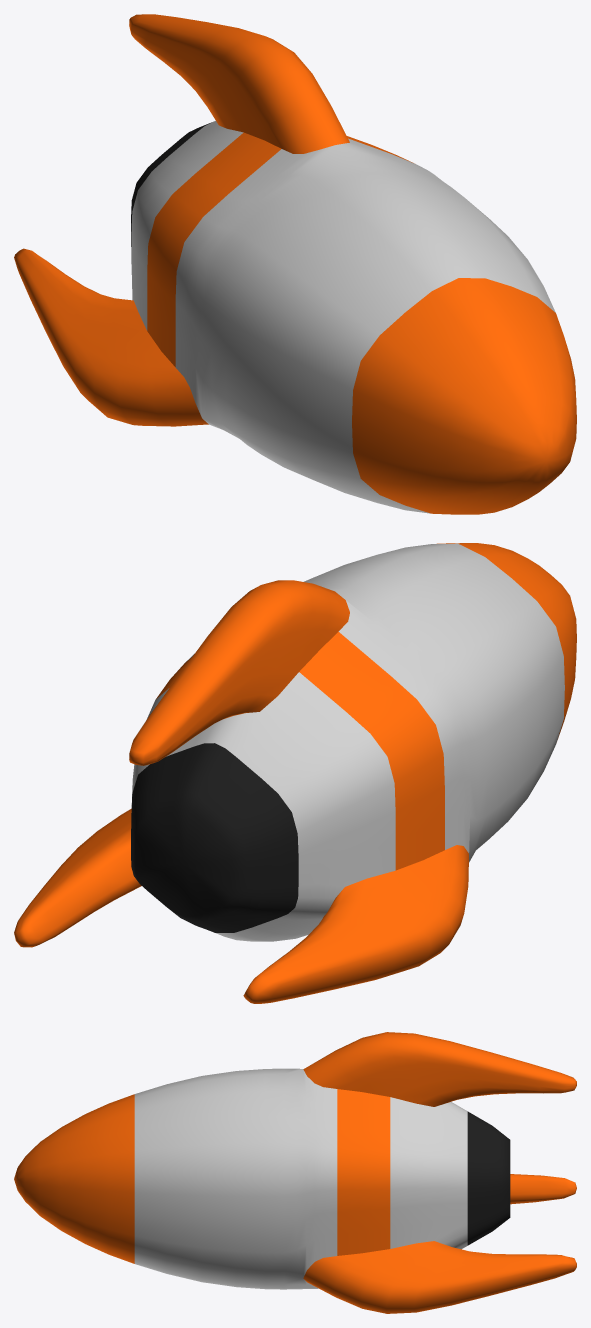
Rendered from rocket.fbx.
The picture shows the model from 3 angles, top to bottom: view 1: azimuth 30°, elevation 25°; view 2: azimuth 150°, elevation 25°; view 3: azimuth 270°, elevation 25°; orthographic projection. The views are drawn at different scales.
Visible parts, largest first — view 1: Cylinder, Cylinder.001; view 2: Cylinder, Cylinder.001; view 3: Cylinder, Cylinder.001.
Boxes of the visible parts, x1,y1,x2,y2 form: Cylinder: [131, 121, 576, 514]; Cylinder.001: [14, 14, 349, 426]; Cylinder: [131, 543, 576, 941]; Cylinder.001: [14, 580, 468, 1003]; Cylinder: [14, 1068, 510, 1289]; Cylinder.001: [303, 1032, 576, 1313].
Size of the model in its own units: 79.92 by 77.83 by 159.
